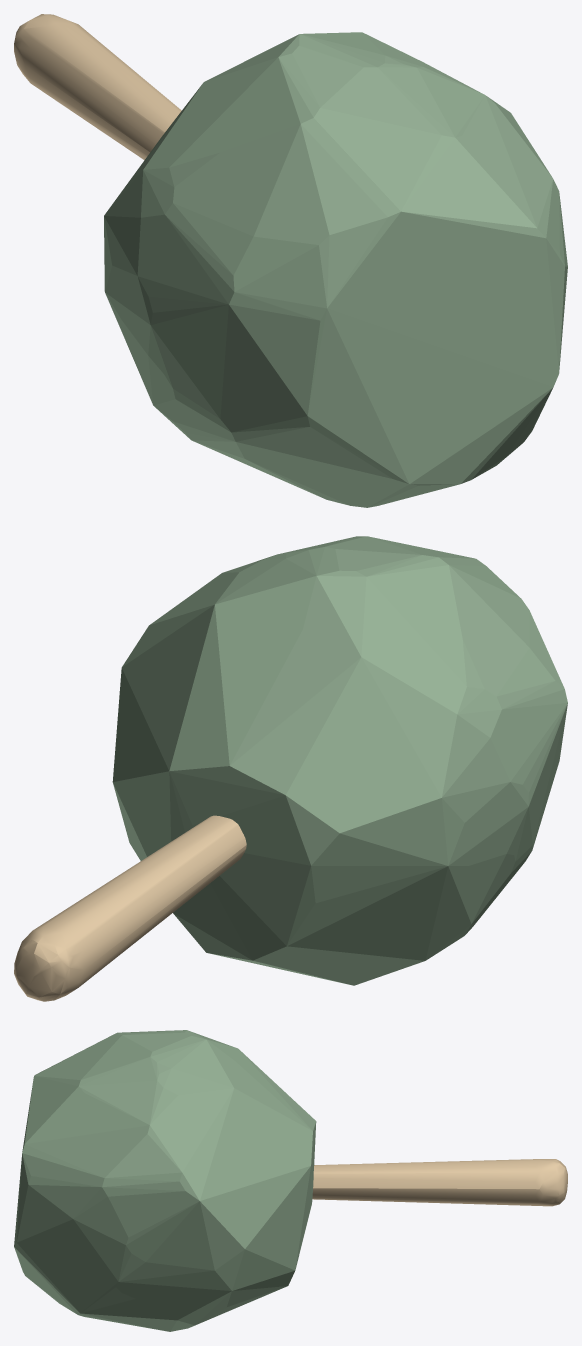
Rendered from arvore.dae.
3 views of the same model, one above another, from view 1: azimuth 30°, elevation 25°; view 2: azimuth 150°, elevation 25°; view 3: azimuth 270°, elevation 25° (orthographic). The views are drawn at different scales.
Parts seen in each view (by area): view 1: Node_0x7f3d2459fe70 (×2); view 2: Node_0x7f3d2459fe70 (×2); view 3: Node_0x7f3d2459fe70 (×2).
Boxes of the visible parts, x1=… form: Node_0x7f3d2459fe70 (×2): x1=14, y1=14, x2=567, y2=507; Node_0x7f3d2459fe70 (×2): x1=14, y1=536, x2=567, y2=1001; Node_0x7f3d2459fe70 (×2): x1=14, y1=1030, x2=567, y2=1331.
Bounding box in the file's own units: 2.13 × 2.2 × 4.04.
